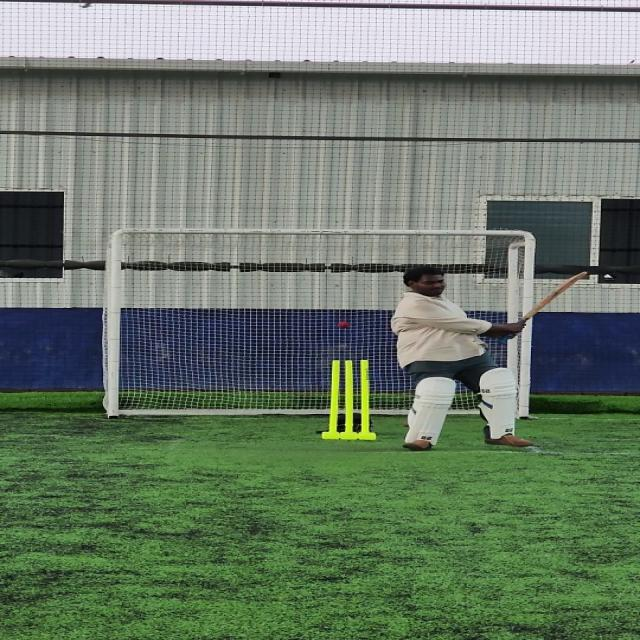ball: (336, 318, 354, 331)
stump: (324, 358, 382, 441)
